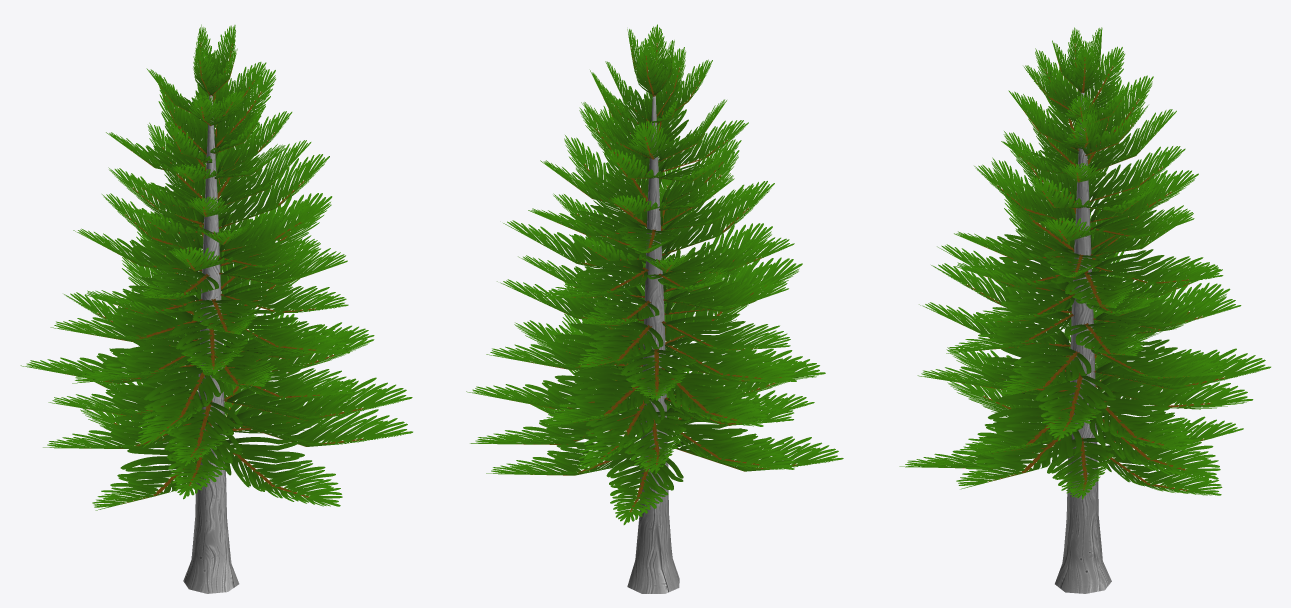
File: Tree01_mod.fbx
The picture shows the model from 3 angles, left to right: view 1: azimuth 30°, elevation 25°; view 2: azimuth 150°, elevation 25°; view 3: azimuth 270°, elevation 25°; orthographic projection.
Visible parts, largest first — view 1: Tree01_LOD0; view 2: Tree01_LOD0; view 3: Tree01_LOD0.
Part boxes in pixels (x1=…): Tree01_LOD0: x1=20, y1=24, x2=412, y2=593; Tree01_LOD0: x1=466, y1=24, x2=843, y2=593; Tree01_LOD0: x1=899, y1=27, x2=1270, y2=593.
Size of what is drawn, in the model's own units: 512 by 772 by 493.
